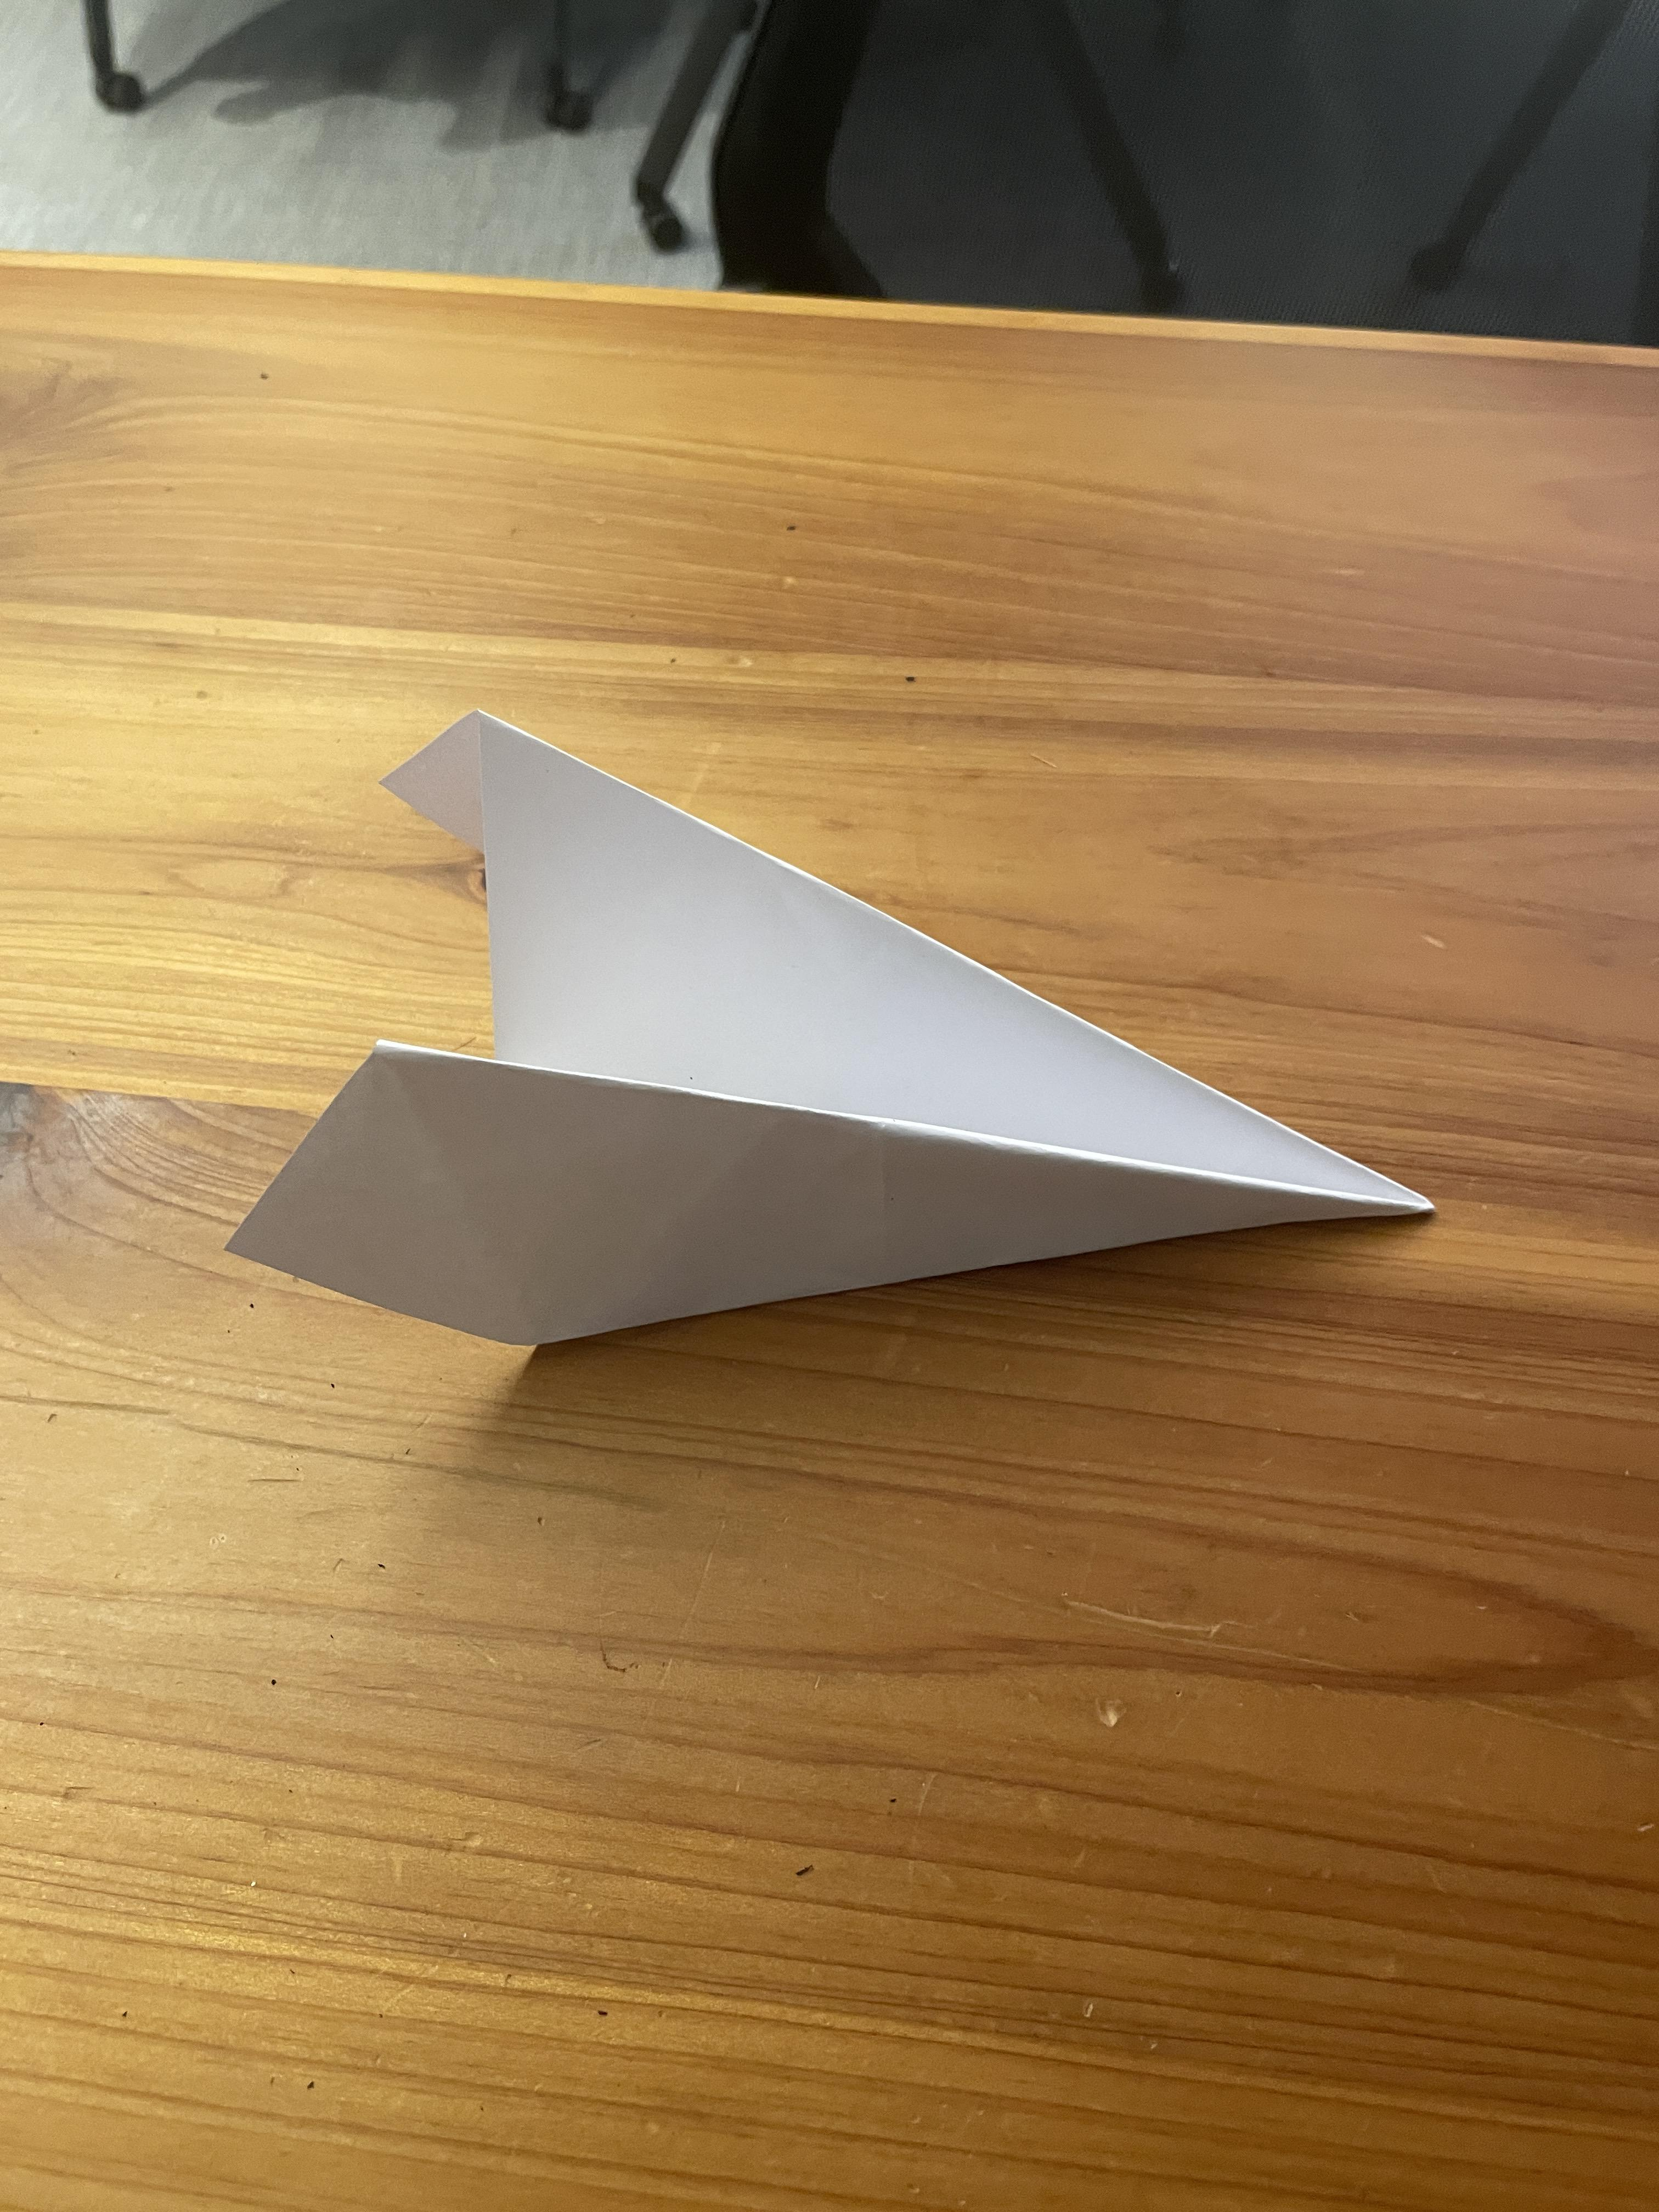shape_3: (77, 505, 1575, 1642)
